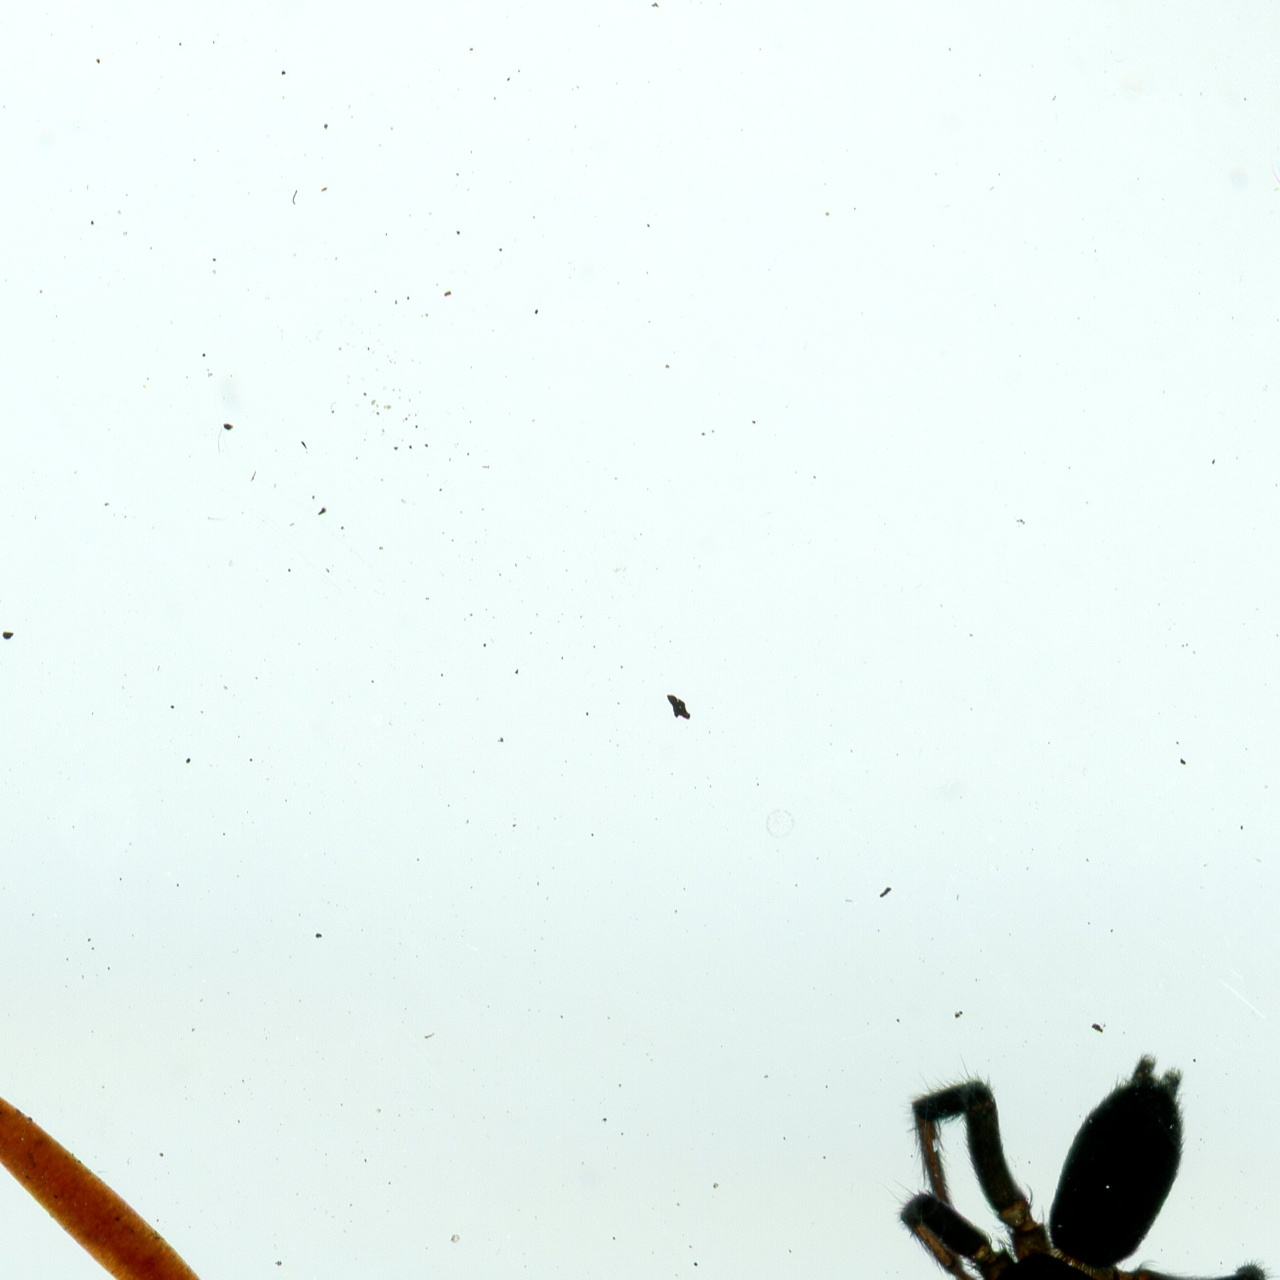arthropod: (788, 1036, 1280, 1280)
